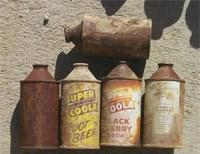metal: (54, 57, 104, 154), (97, 59, 145, 154), (16, 56, 62, 154)
